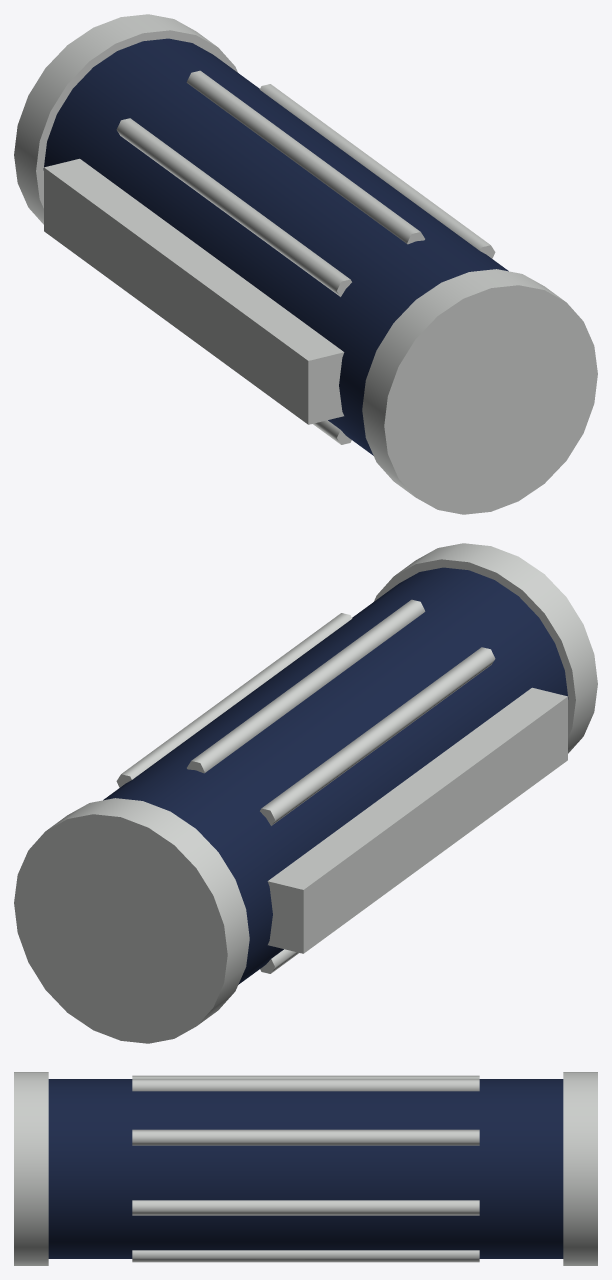
Rendered from s200_starter.obj.
3 renders of one model, top to bottom at view 1: azimuth 30°, elevation 25°; view 2: azimuth 150°, elevation 25°; view 3: azimuth 270°, elevation 25°, orthographic. The views are drawn at different scales.
Visible parts, largest first — view 1: s200_starter; view 2: s200_starter; view 3: s200_starter.
Part boxes in pixels (<box>): s200_starter: <box>14,14,597,514</box>; s200_starter: <box>14,543,597,1043</box>; s200_starter: <box>14,1072,597,1265</box>.
Size of the model in its own units: 0.312 by 0.2808 by 0.84.
